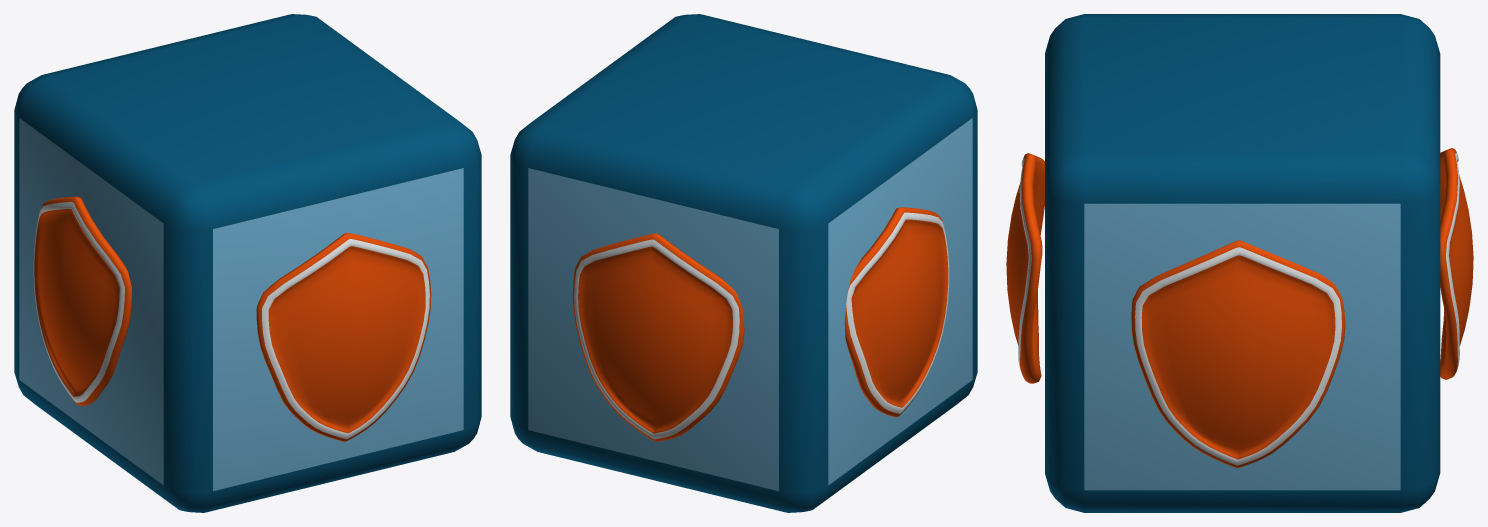
File: 3kalkanacma.fbx
The picture shows the model from 3 angles, left to right: view 1: azimuth 30°, elevation 25°; view 2: azimuth 150°, elevation 25°; view 3: azimuth 270°, elevation 25°; orthographic projection. The views are drawn at different scales.
Parts seen in each view (by area): view 1: Cube.003, Plane.001, Plane.003; view 2: Cube.003, Plane.004, Plane.003; view 3: Cube.003, Plane.002, Plane.001, Plane.004.
Boxes of the visible parts, x1,y1,x2,y2 form: Cube.003: (14, 14, 481, 512); Plane.001: (256, 233, 431, 441); Plane.003: (33, 196, 131, 405); Cube.003: (510, 14, 977, 512); Plane.004: (572, 233, 744, 441); Plane.003: (844, 207, 949, 417); Cube.003: (1045, 14, 1440, 512); Plane.002: (1131, 240, 1345, 468); Plane.001: (1006, 153, 1044, 383); Plane.004: (1440, 148, 1473, 379).
Size of the model in its own units: 233 by 200 by 236.
